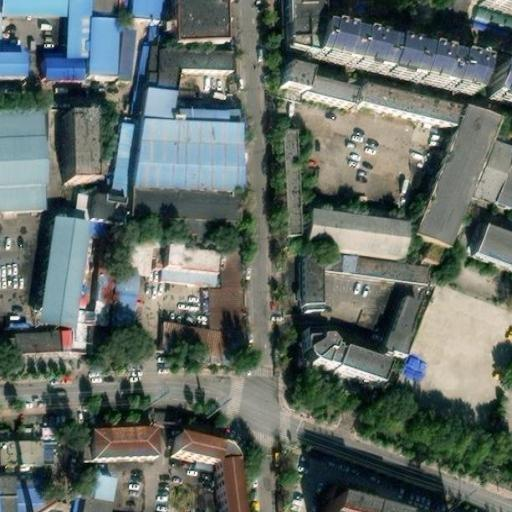building: (124, 94, 238, 206), (313, 27, 480, 100), (409, 120, 492, 258), (0, 0, 118, 84), (300, 326, 384, 393), (34, 227, 84, 337), (305, 214, 405, 263), (173, 446, 239, 512), (0, 116, 43, 217), (356, 94, 447, 138), (275, 132, 307, 250), (466, 145, 511, 213), (274, 73, 350, 113), (319, 484, 419, 512), (157, 282, 212, 332), (378, 303, 416, 366), (91, 435, 156, 468), (64, 129, 95, 198), (469, 237, 512, 281), (110, 267, 142, 325), (120, 231, 161, 276), (161, 252, 211, 286), (91, 258, 116, 322), (215, 243, 245, 289), (479, 68, 512, 109), (72, 480, 112, 512), (298, 258, 321, 313), (397, 350, 429, 381), (15, 482, 46, 512), (126, 0, 155, 26), (0, 59, 20, 92)
